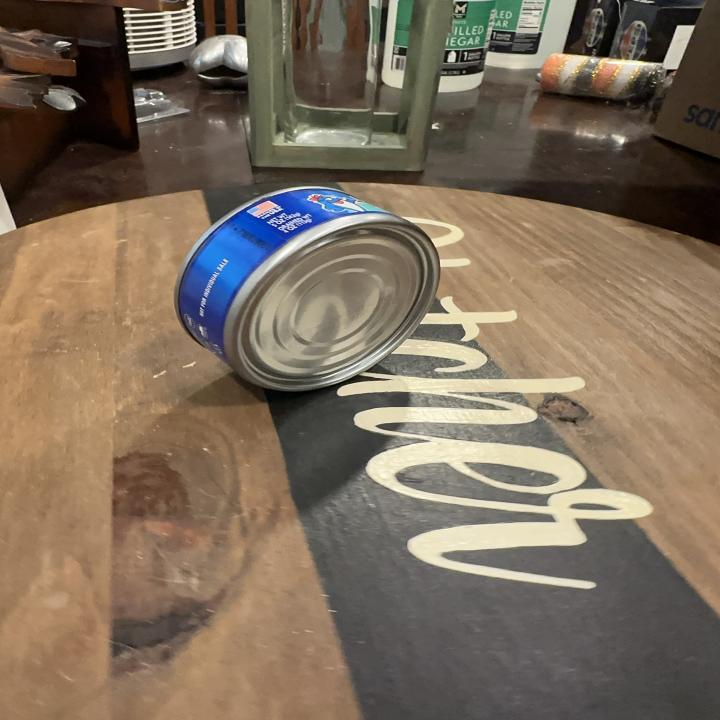Canned-Tuna: (172, 185, 442, 396)
